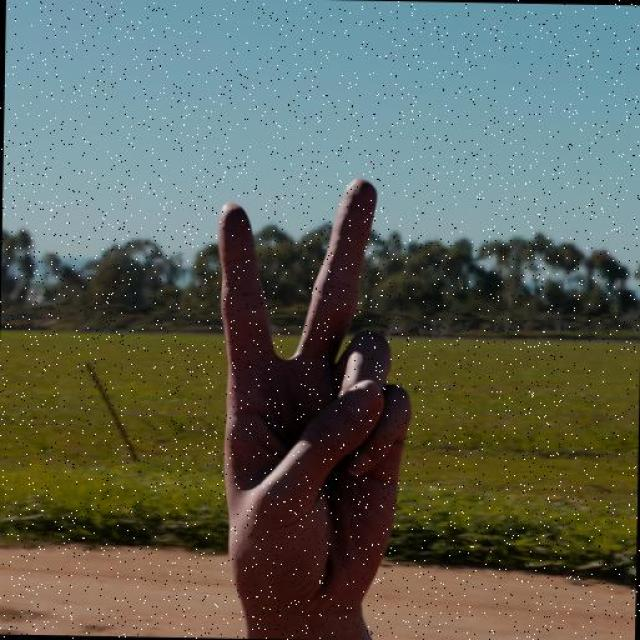V: (188, 168, 426, 631)
